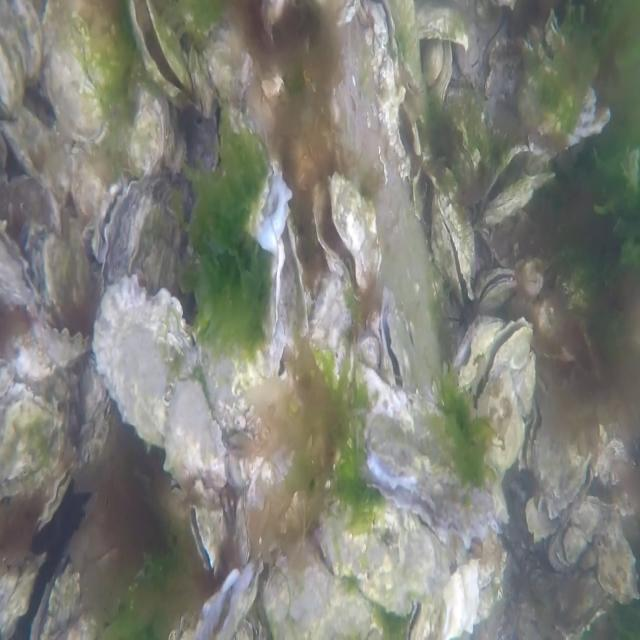Oyster-Closed: (41, 0, 128, 146), (481, 170, 556, 230), (34, 461, 76, 536), (391, 0, 424, 89), (38, 316, 92, 366), (356, 333, 380, 376)
Oyster-Indeterminate: (90, 272, 227, 484), (316, 494, 448, 619), (246, 362, 303, 510), (0, 382, 66, 501), (0, 105, 72, 199), (40, 229, 95, 321), (0, 0, 43, 113), (308, 273, 351, 382), (124, 92, 167, 180)
Oyster-Open: (361, 398, 497, 552), (206, 23, 292, 253), (310, 171, 383, 304), (361, 0, 421, 159), (29, 532, 109, 640), (527, 403, 593, 523), (466, 318, 532, 419), (127, 0, 193, 98), (195, 554, 265, 640), (428, 196, 477, 308), (272, 210, 307, 349), (448, 311, 506, 388), (90, 172, 136, 266), (376, 288, 412, 394), (0, 229, 40, 311), (186, 503, 224, 573), (473, 268, 516, 310)
